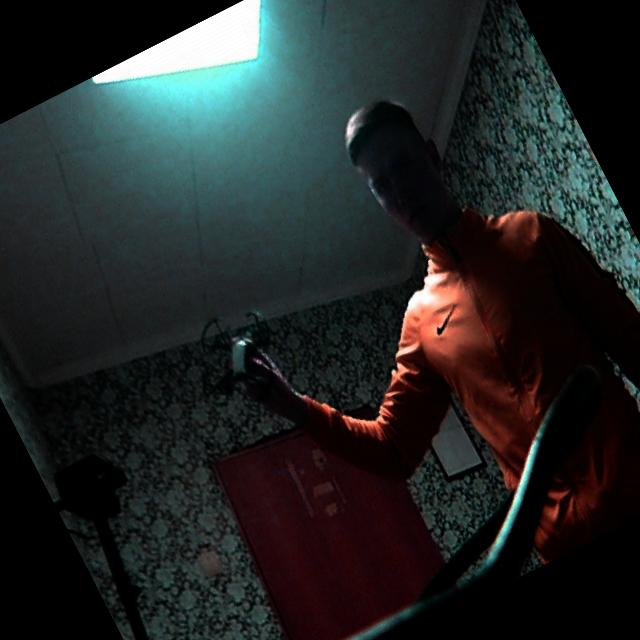drone: (174, 286, 298, 421)
